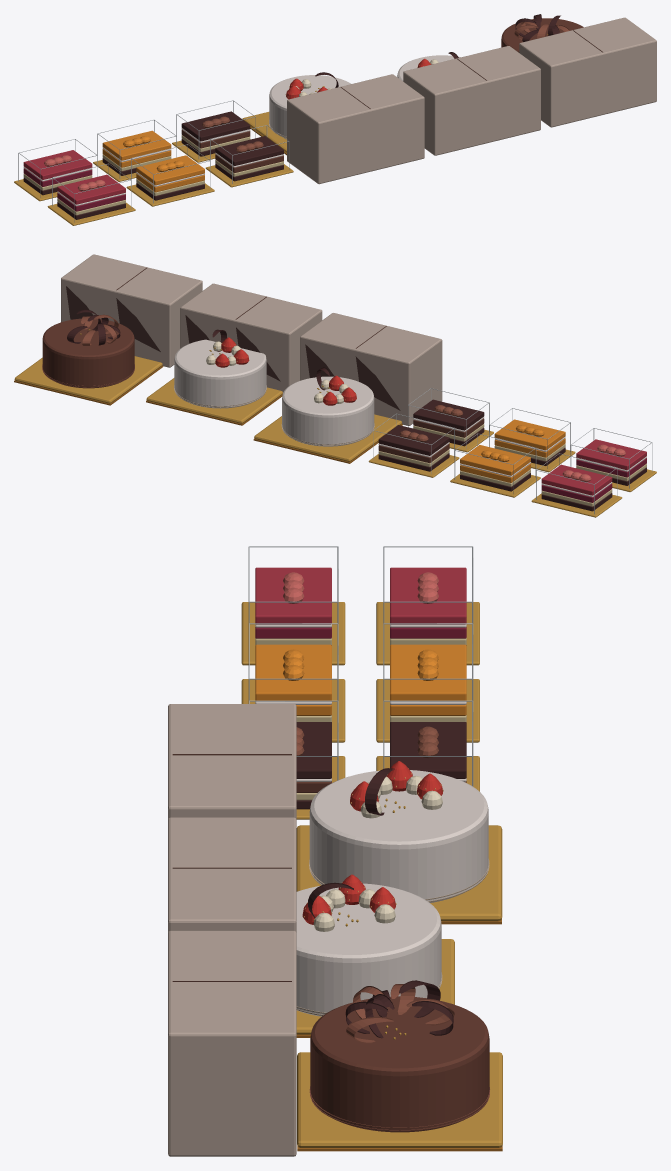
Rendered from gateaux.glb.
3 views of the same model, one above another, from view 1: azimuth 30°, elevation 25°; view 2: azimuth 150°, elevation 25°; view 3: azimuth 270°, elevation 25° (orthographic). The views are drawn at different scales.
Parts seen in each view (by area): view 1: Gateaux; view 2: Gateaux; view 3: Gateaux.
Part boxes in pixels (x1,y1,x2,y2): Gateaux: [14, 14, 656, 225]; Gateaux: [14, 254, 656, 517]; Gateaux: [168, 546, 502, 1156].
Bounding box in the file's own units: 1.94 × 0.204 × 0.4974.
